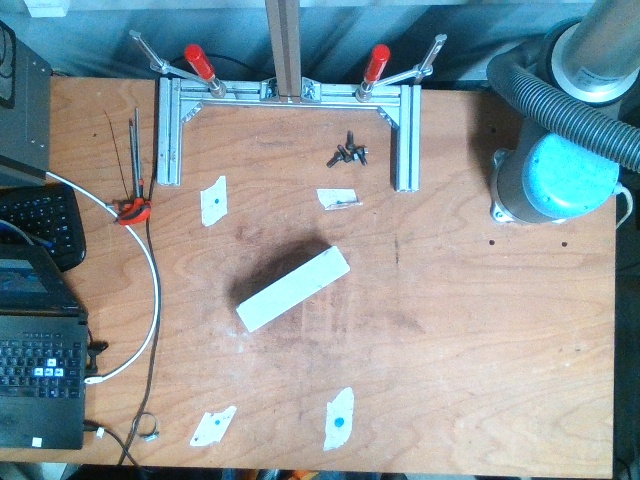brick-side: (236, 245, 351, 334)
